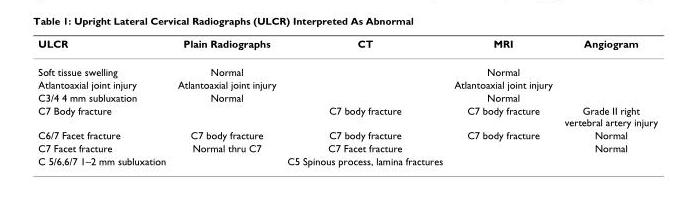table: (37, 37, 656, 166)
table column: (281, 37, 447, 166), (37, 37, 171, 166), (171, 37, 281, 166), (447, 37, 557, 166), (557, 37, 656, 166)
table column header: (37, 37, 656, 57)
table row: (37, 103, 656, 128), (37, 37, 656, 57), (37, 57, 656, 77), (37, 77, 656, 90), (37, 90, 656, 103), (37, 128, 656, 141), (37, 141, 656, 154), (37, 154, 656, 166)
